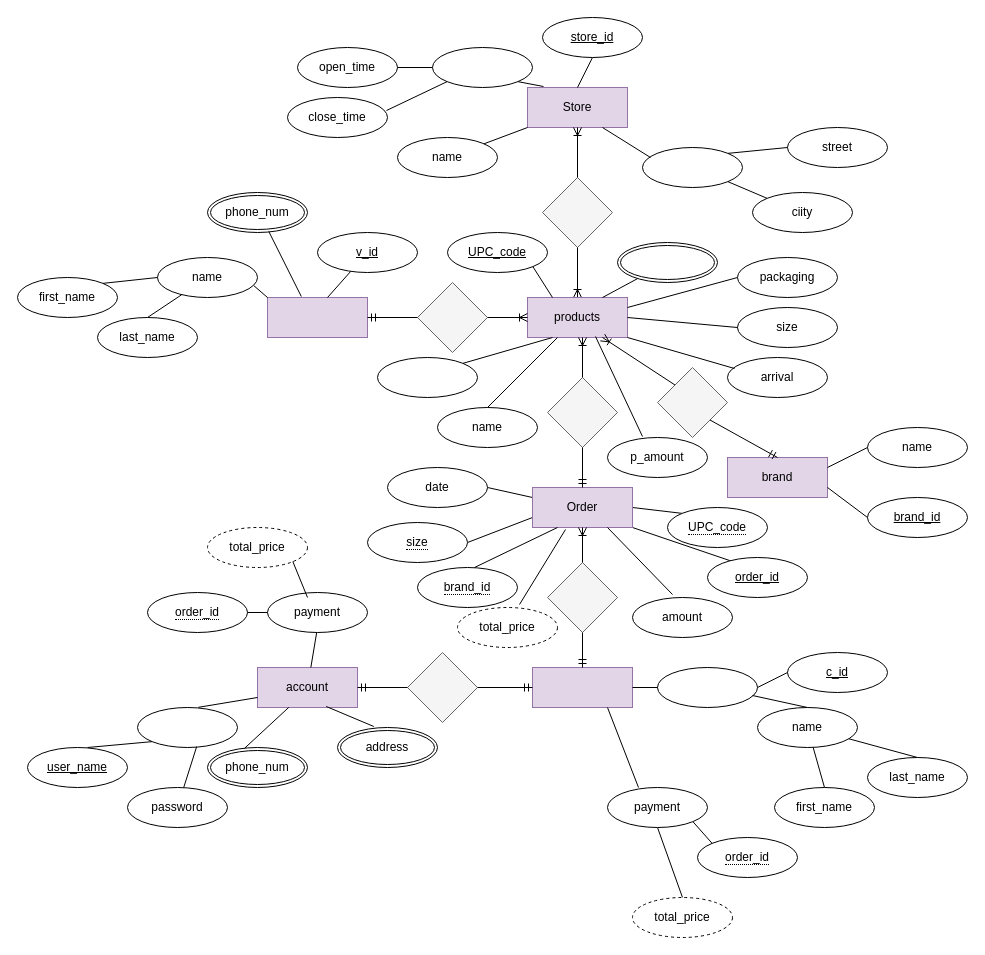
Image size: 985x955. Some labels were removed from this diagram. Here are the shapes that lost their labels. From the top down, the centre of each, then its label:
the point at 482,67: schedule
the point at 692,167: location
the point at 577,212: sales
the point at 667,262: description
the point at 317,317: vendor
the point at 452,317: supplied_by
the point at 427,377: price
the point at 582,412: contains
the point at 692,402: belongs_to
the point at 582,597: make
the point at 442,687: have
the point at 582,687: customer
the point at 707,687: personal_info
the point at 187,727: login
